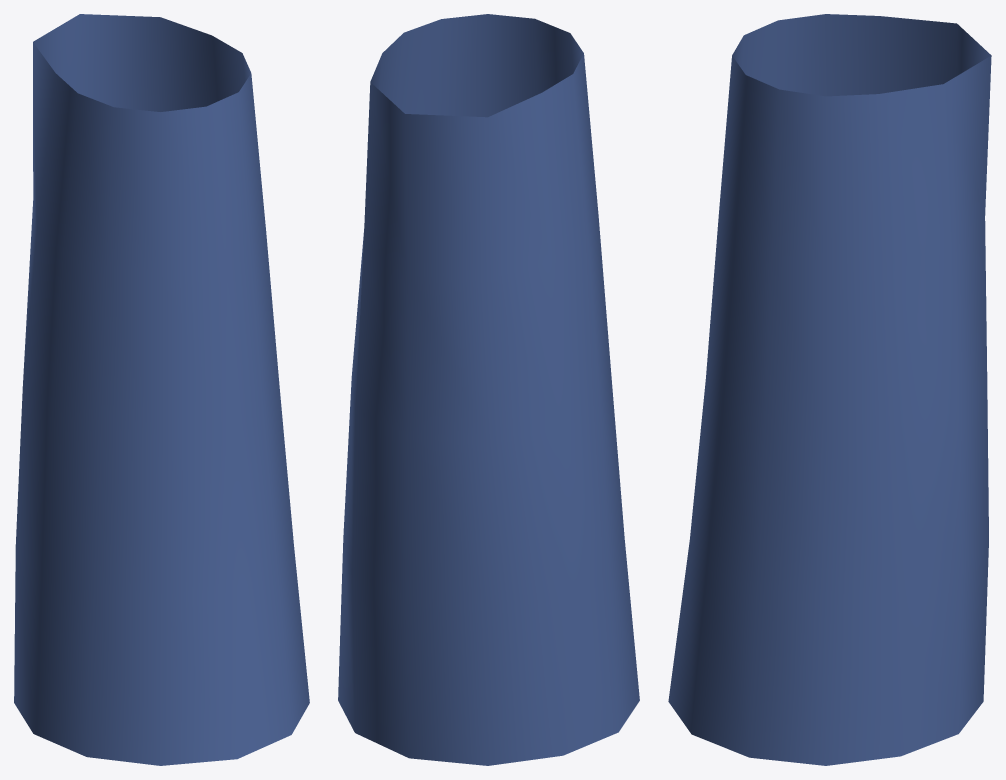
The model's file is spectre_armor_greave.R.glb.
3 views of the same model, side by side, from view 1: azimuth 30°, elevation 25°; view 2: azimuth 150°, elevation 25°; view 3: azimuth 270°, elevation 25° (orthographic). The views are drawn at different scales.
Parts seen in each view (by area): view 1: spectre_armor_greave.R; view 2: spectre_armor_greave.R; view 3: spectre_armor_greave.R.
Part boxes in pixels (<box>): spectre_armor_greave.R: <box>14,14,309,765</box>; spectre_armor_greave.R: <box>338,14,639,765</box>; spectre_armor_greave.R: <box>668,14,991,765</box>.
Bounding box in the file's own units: 0.16 × 0.3767 × 0.1707.
